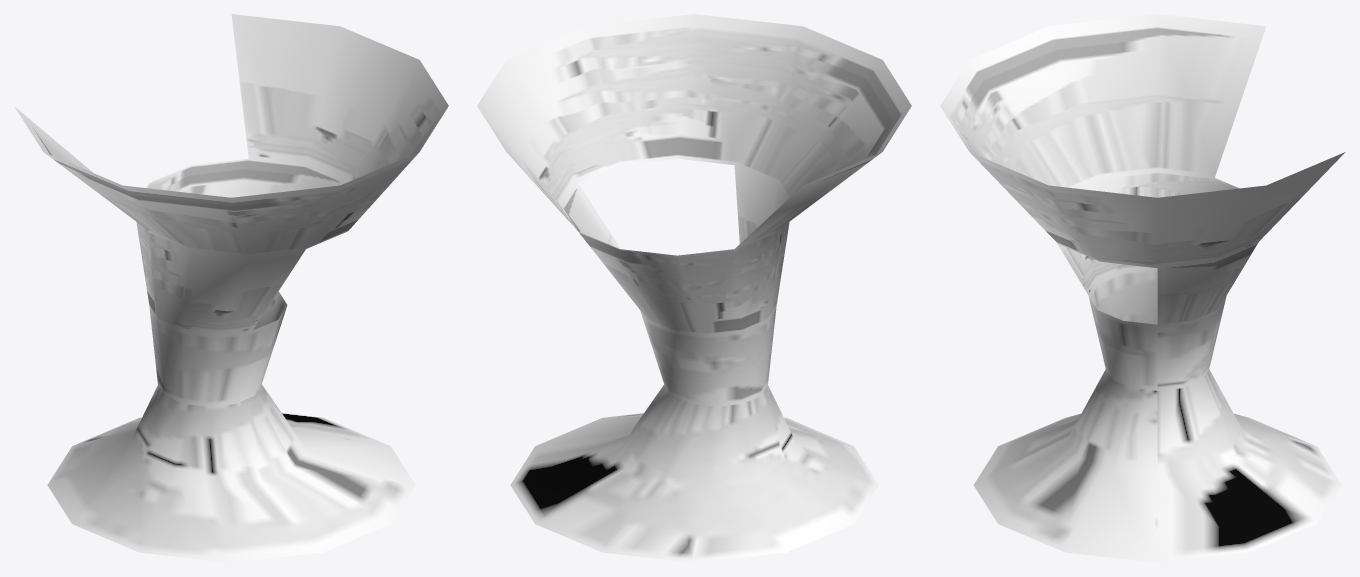
File: Tonado_Mesh01.FBX
3 views of the same model, side by side, from view 1: azimuth 30°, elevation 25°; view 2: azimuth 150°, elevation 25°; view 3: azimuth 270°, elevation 25° (orthographic).
Visible parts, largest first — view 1: Cone001; view 2: Cone001; view 3: Cone001.
Boxes of the visible parts, bbox=[...] form: Cone001: bbox=[14, 14, 448, 562]; Cone001: bbox=[477, 14, 911, 562]; Cone001: bbox=[940, 14, 1345, 562].
Size of the model in its own units: 162 by 156 by 151.
